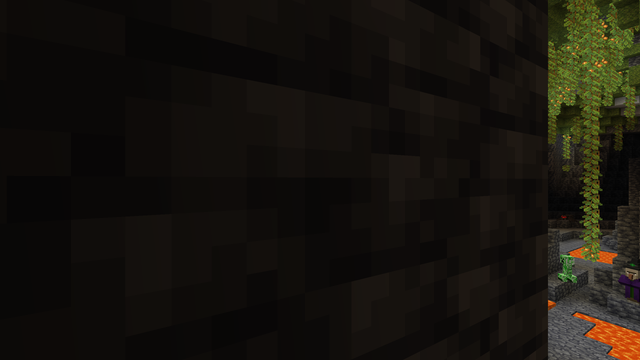araignees: (557, 213, 574, 221)
creepers: (559, 253, 574, 283)
sorcieres: (624, 264, 639, 305)
